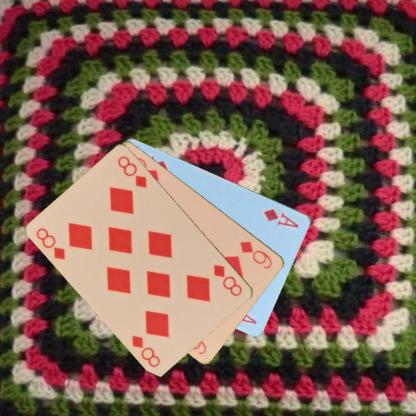6d: (237, 238, 274, 270)
8d: (211, 262, 244, 298), (34, 225, 67, 261)
Ad: (261, 206, 301, 228)
